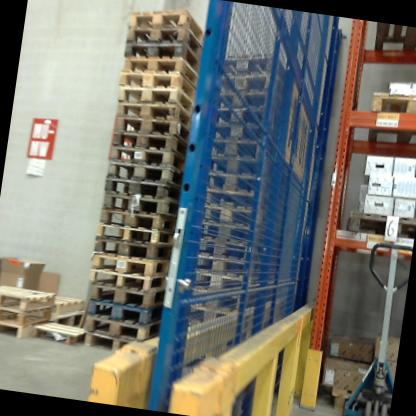pallet: (121, 1, 225, 54), (184, 244, 279, 294), (121, 18, 214, 66), (358, 78, 416, 152), (80, 307, 184, 348), (119, 48, 204, 97), (116, 81, 204, 125), (121, 36, 210, 79), (116, 83, 209, 124), (185, 264, 277, 304), (209, 56, 294, 99), (209, 80, 296, 122), (87, 290, 176, 331), (161, 303, 260, 338), (85, 277, 178, 314), (191, 230, 277, 270), (89, 233, 181, 269), (100, 142, 191, 178), (115, 69, 203, 105), (202, 130, 285, 168), (214, 49, 290, 89), (346, 204, 416, 247), (89, 251, 185, 282), (109, 113, 197, 145), (102, 157, 194, 187), (112, 98, 203, 128), (90, 266, 177, 297), (213, 100, 288, 135), (113, 128, 196, 159), (180, 285, 263, 316), (323, 380, 392, 416), (200, 187, 276, 219), (93, 206, 183, 233), (206, 114, 277, 148), (209, 153, 282, 186), (97, 221, 181, 249), (97, 190, 184, 217), (100, 175, 186, 202), (199, 200, 271, 231), (0, 278, 61, 314), (190, 221, 266, 249), (205, 168, 277, 196), (0, 295, 57, 329), (372, 23, 416, 64), (33, 317, 84, 349), (39, 285, 90, 316), (81, 328, 140, 353), (0, 314, 47, 344), (39, 300, 82, 329)
pallet_truck: (343, 233, 412, 416)
